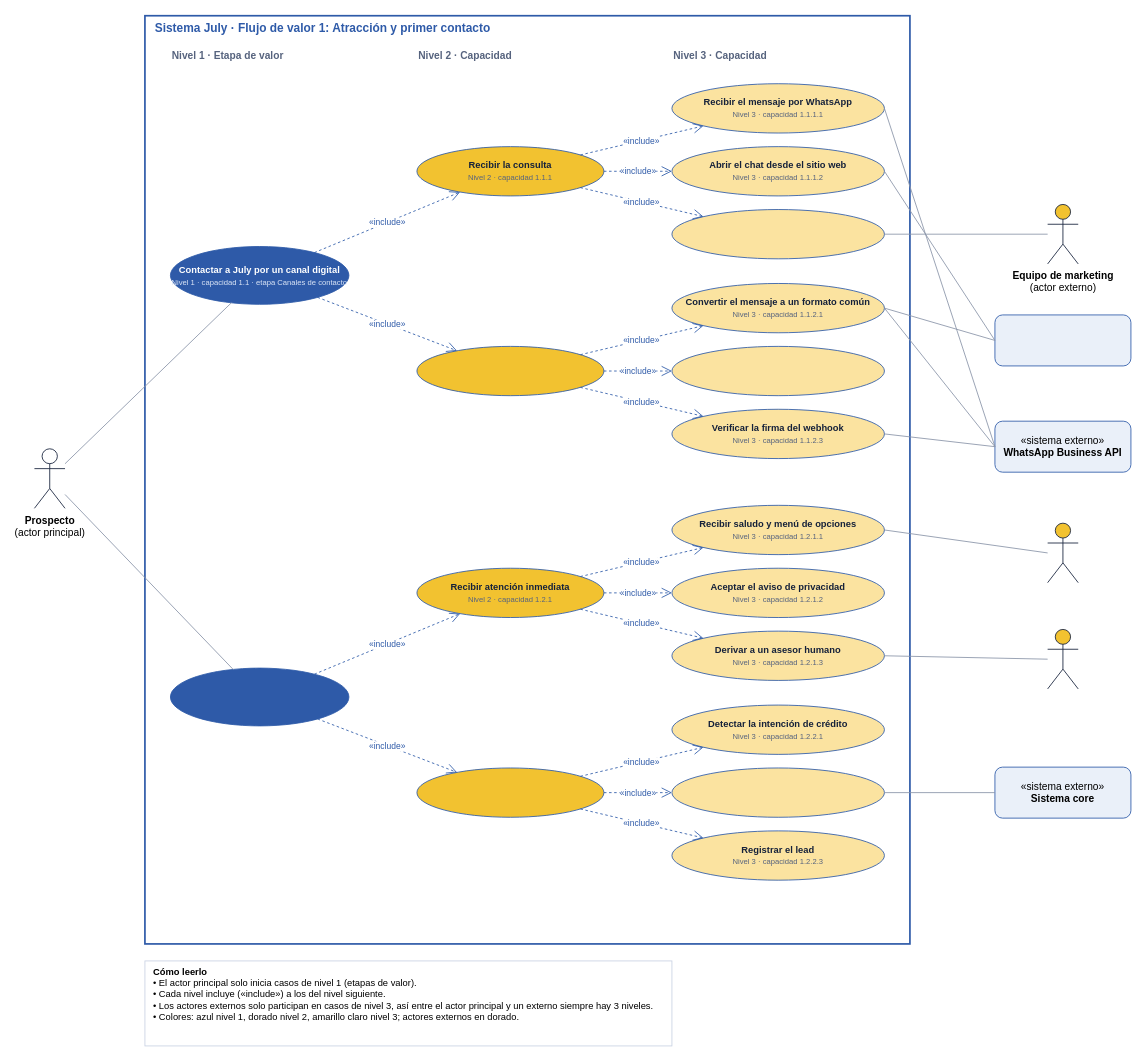
The diagram is 1146 pixels wide and 1061 high, and some of its shapes have lost their labels. Here are the shapes that lost their labels. From the top down, the centre of each, then its label:
point (777, 234): Etiquetar el origen de la conversación Nivel 3 · capacidad 1.1.1.3
point (1062, 340): «sistema externo» Widget web
point (510, 371): Unificar los mensajes entrantes Nivel 2 · capacidad 1.1.2
point (777, 371): Encolar mensajes en picos de demanda Nivel 3 · capacidad 1.1.2.2
point (1062, 552): Administrador del asistente (actor externo)
point (1062, 659): Asesor comercial (actor externo)
point (259, 696): Recibir el primer contacto Nivel 1 · capacidad 1.2 · etapa Primer contacto
point (510, 792): Identificar al prospecto y su necesidad Nivel 2 · capacidad 1.2.2
point (777, 792): Reconocer si ya es socio Nivel 3 · capacidad 1.2.2.2
